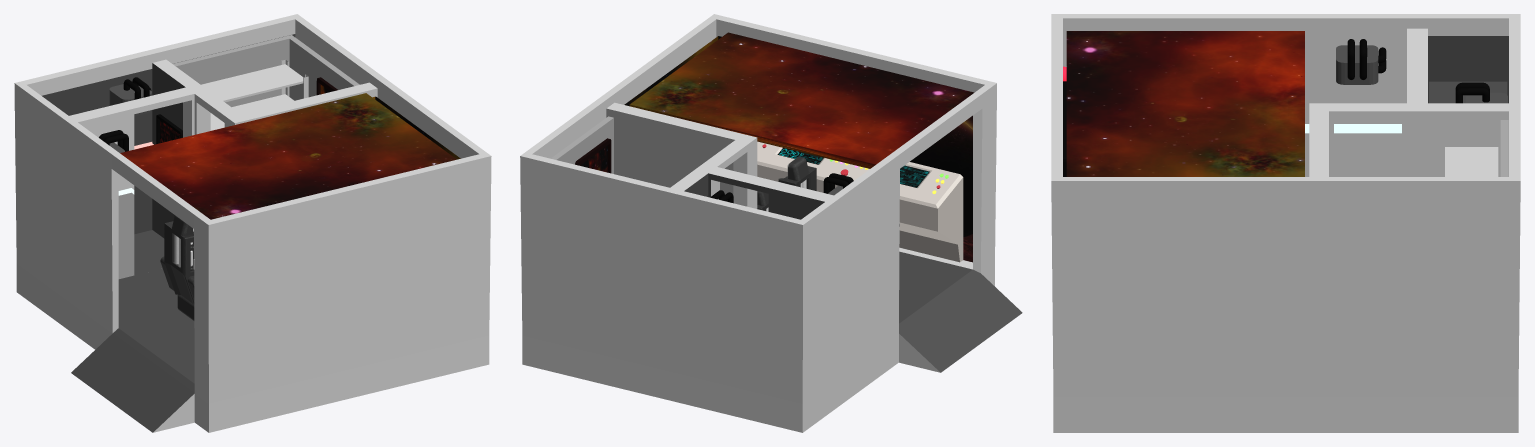
The model's file is Neonova_EscapeRoom(con props).fbx.
The picture shows the model from 3 angles, left to right: view 1: azimuth 30°, elevation 25°; view 2: azimuth 150°, elevation 25°; view 3: azimuth 270°, elevation 25°; orthographic projection. The views are drawn at different scales.
Parts seen in each view (by area): view 1: hall, ship screens, walls, screens, estanteria.001, asiento.006, conductos ventilador.002, panel de seguridad.002, conductos ventilador.001; view 2: hall, ship screens, walls, Ordenador.001, screens, asiento.004, panel de seguridad.001; view 3: hall, ship screens, walls, conductos ventilador.001, estanteria.001, servidor.001, conductos ventilador.002, screens.
Part boxes in pixels (x1,y1,x2,y2): hall: [14, 14, 491, 432]; ship screens: [120, 93, 460, 219]; walls: [69, 59, 377, 278]; screens: [173, 35, 359, 107]; estanteria.001: [201, 59, 308, 130]; asiento.006: [160, 215, 194, 320]; conductos ventilador.002: [109, 77, 151, 116]; panel de seguridad.002: [156, 114, 182, 143]; conductos ventilador.001: [99, 130, 128, 152]; hall: [520, 14, 1022, 432]; ship screens: [624, 32, 974, 262]; walls: [606, 102, 833, 219]; Ordenador.001: [757, 141, 963, 262]; screens: [551, 116, 613, 173]; asiento.004: [778, 156, 816, 190]; panel de seguridad.001: [575, 138, 611, 173]; hall: [1051, 14, 1520, 432]; ship screens: [1066, 31, 1304, 176]; walls: [1309, 28, 1508, 176]; conductos ventilador.001: [1336, 39, 1386, 84]; estanteria.001: [1444, 144, 1499, 176]; servidor.001: [1429, 81, 1507, 103]; conductos ventilador.002: [1455, 82, 1507, 103]; screens: [1500, 120, 1508, 176].
Size of the model in its own units: 1156 by 713 by 1200.
